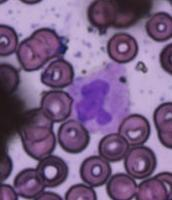N: (67, 62, 130, 134)
